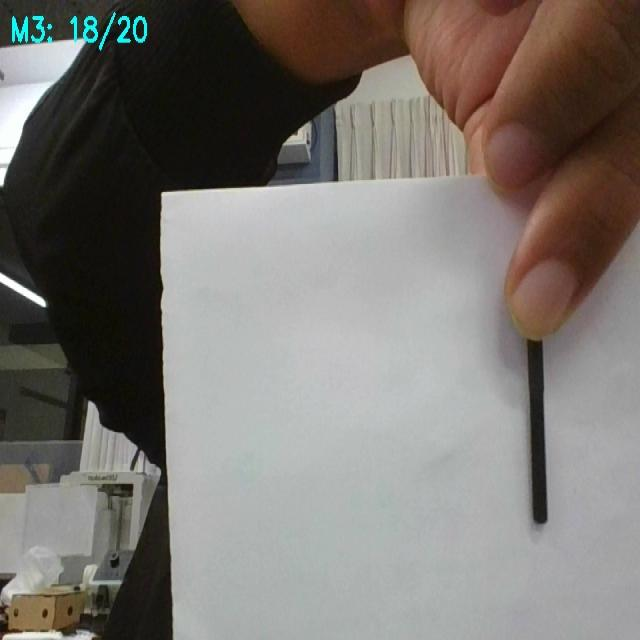vastago: (527, 339, 547, 524)
